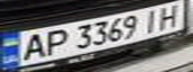3: (72, 21, 93, 51), (90, 18, 112, 46)
6: (106, 16, 127, 43)
9: (121, 12, 142, 39)
A: (15, 30, 51, 62)
H: (154, 2, 184, 30)
I: (139, 7, 163, 34)
P: (39, 27, 72, 57)
